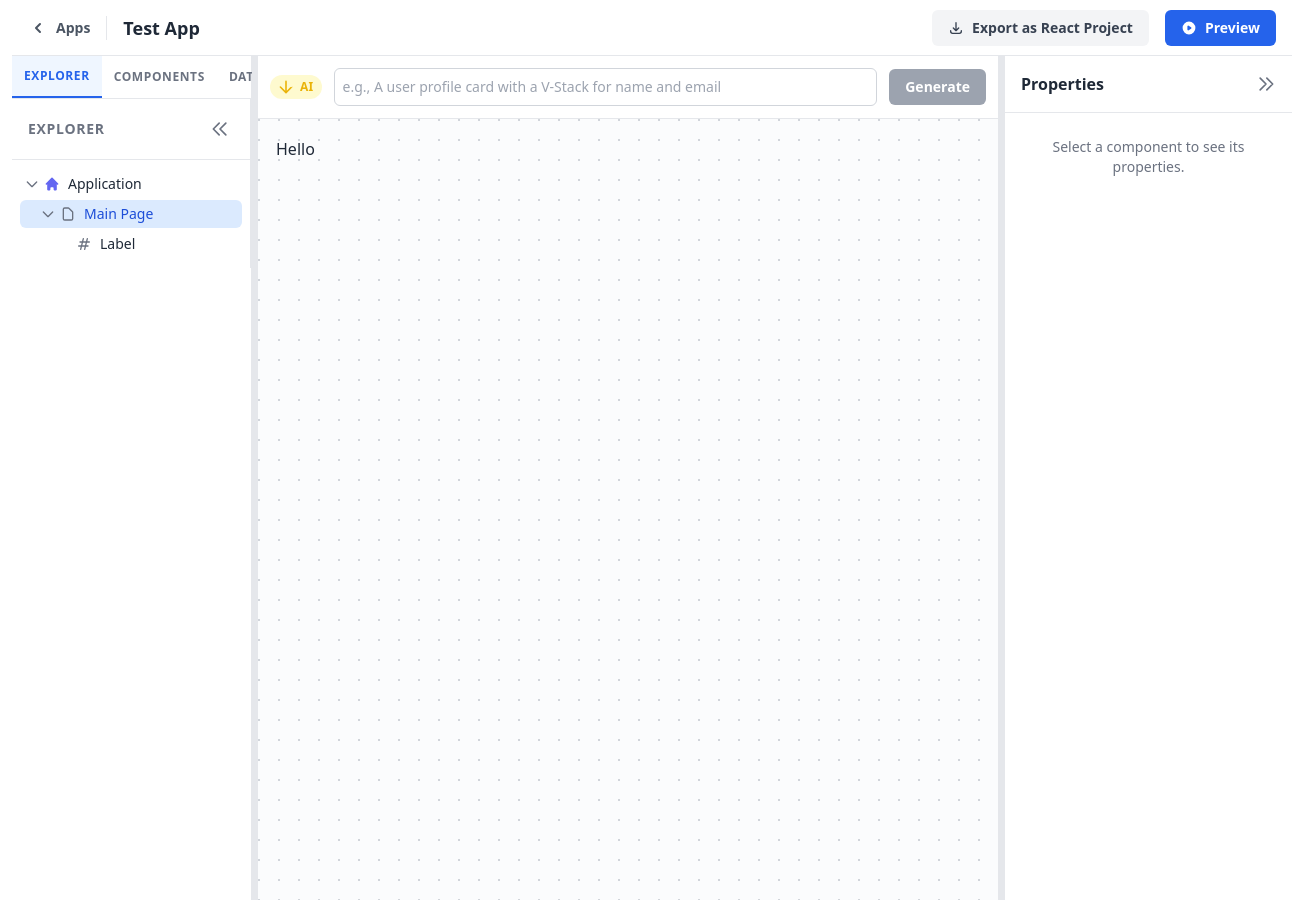
Test: Editor › should switch between left panel tabs
This screenshot has width=1292, height=900.
expect the heading "Test App" is shown: met, box [123,14,200,42]
expect the heading "Explorer" is shown: met, box [24,119,109,139]
Click the button "Components" at coordinates (159, 77), box [102,56,217,98]
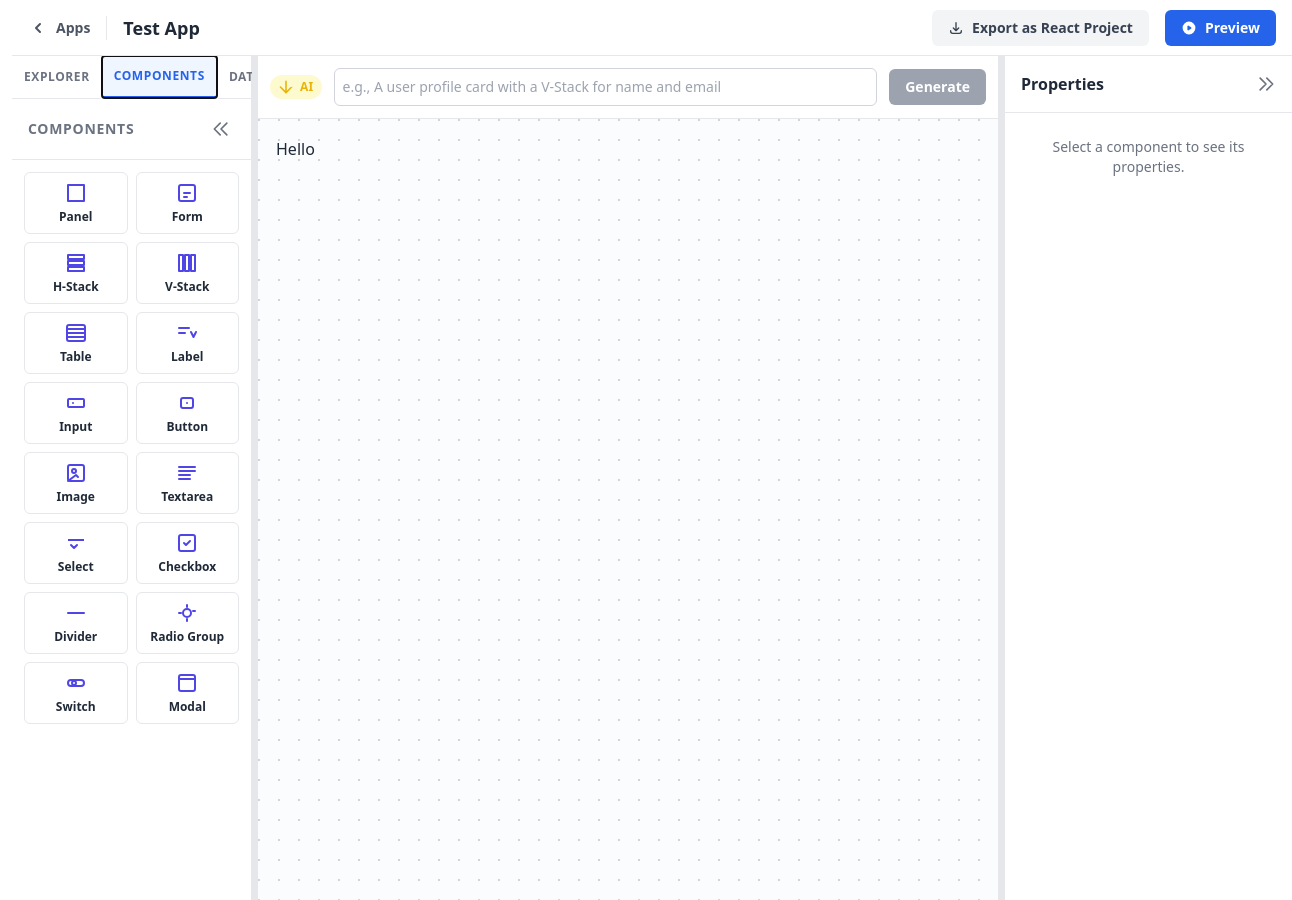
expect the heading "Components" is shown: met, box [24,119,138,139]
Click the button "Data" at coordinates (245, 77), box [217,56,274,98]
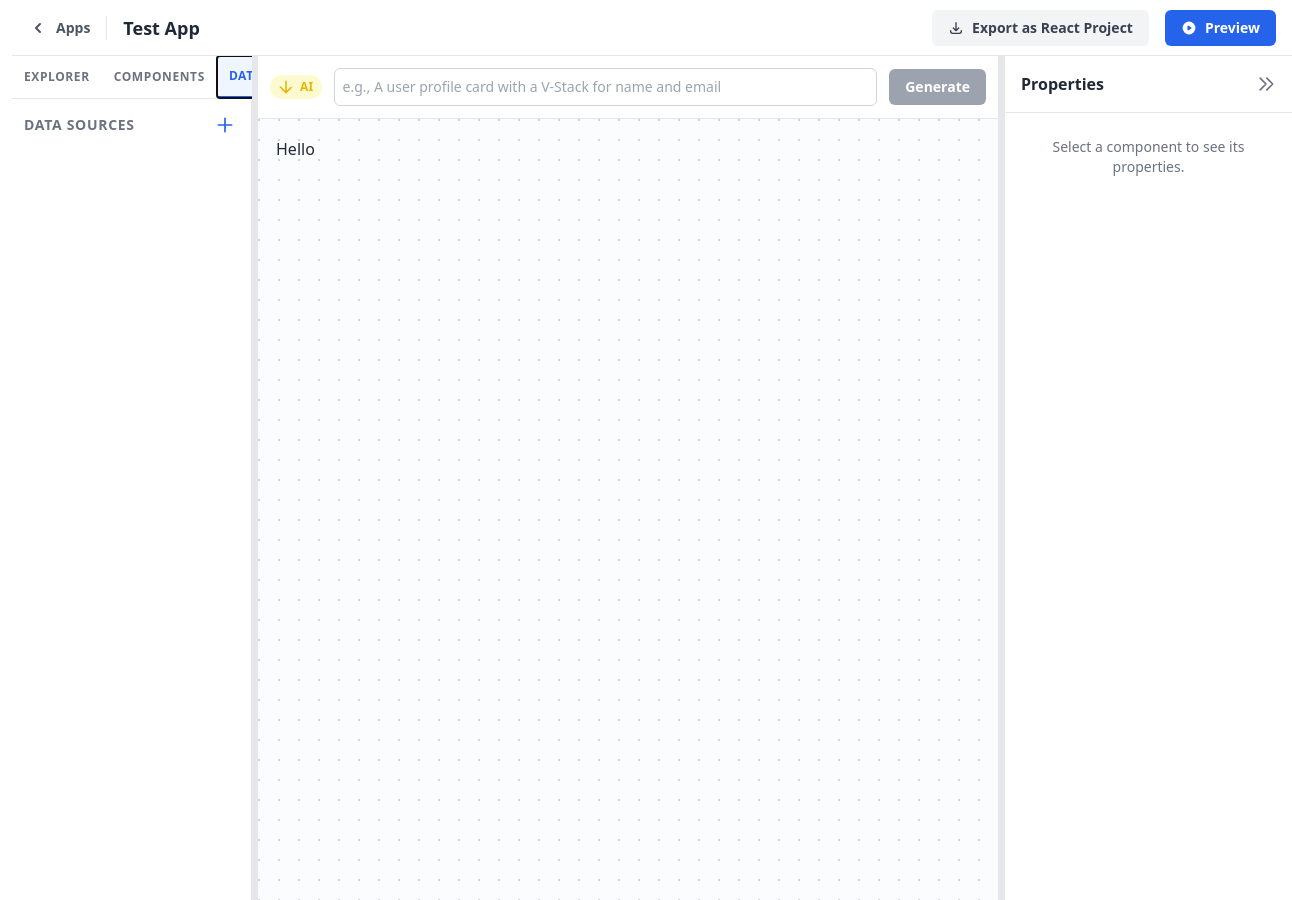
expect the heading "Data Sources" is shown: met, box [24,115,135,135]
